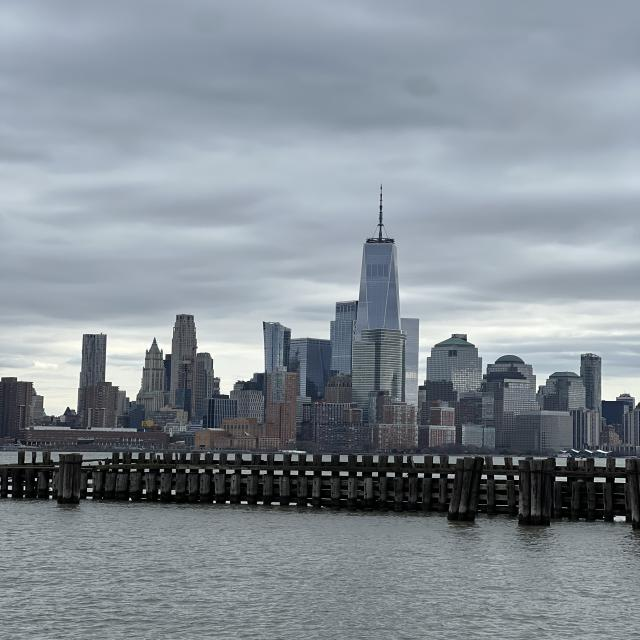WTC: (355, 184, 404, 322)
